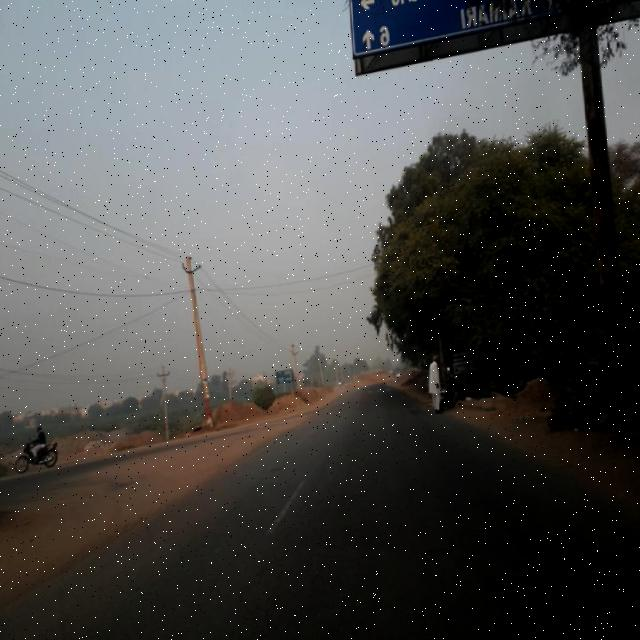D20: (252, 464, 356, 639)
